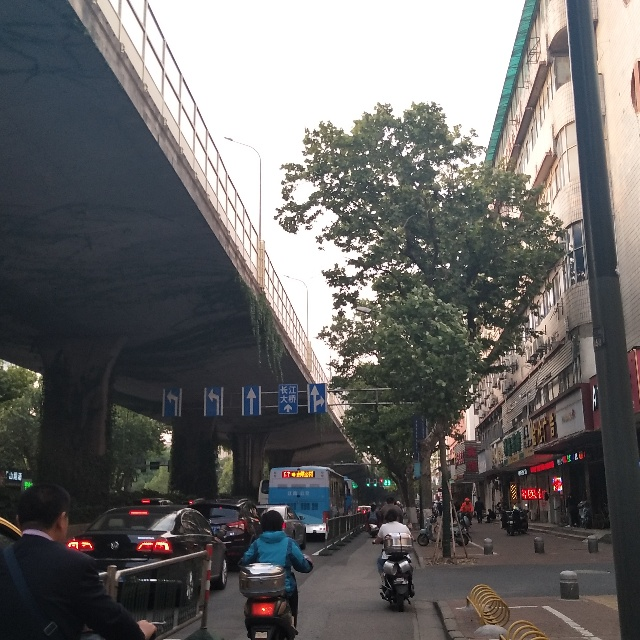left: (205, 387, 221, 419), (164, 389, 181, 416)
straight: (243, 386, 258, 417)
